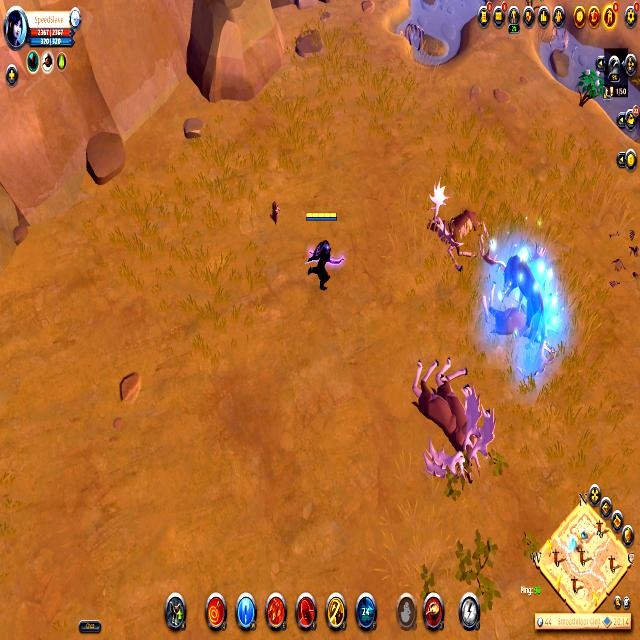hide: (579, 64, 603, 105)
mob: (412, 352, 497, 491), (481, 278, 561, 380), (424, 167, 499, 273)
ore: (477, 233, 551, 352)
red: (303, 208, 344, 293)
